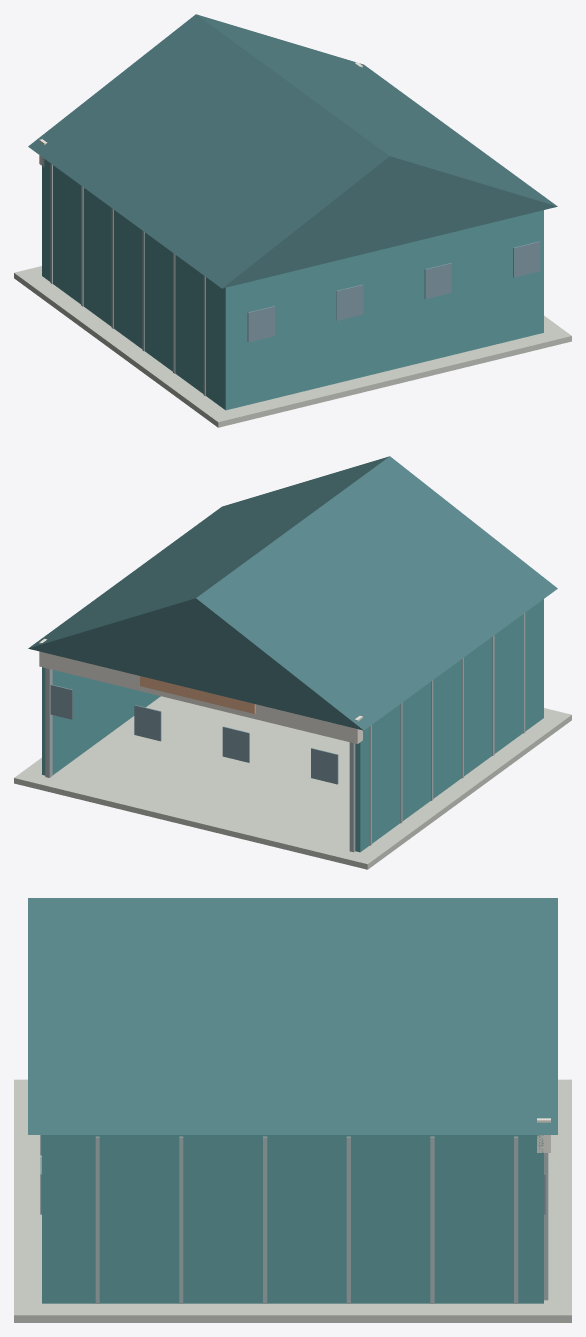
Rendered from hangar_small.glb.
3 views of the same model, one above another, from view 1: azimuth 30°, elevation 25°; view 2: azimuth 150°, elevation 25°; view 3: azimuth 270°, elevation 25° (orthographic). The views are drawn at different scales.
Parts seen in each view (by area): view 1: hangar_small__pitched_roof, hangar_small__back_wall, hangar_small__side_wall, hangar_small__foundation, hangar_small__window.004, hangar_small__window.006, hangar_small__window.002, hangar_small__window; view 2: hangar_small__pitched_roof, hangar_small__foundation, hangar_small__side_wall, hangar_small__side_wall.001, hangar_small__door_header, hangar_small__hangar_sign, hangar_small__window.005, hangar_small__window.001, hangar_small__window.003, hangar_small__door_track.001, hangar_small__door_track, hangar_small__window.007; view 3: hangar_small__pitched_roof, hangar_small__side_wall.001, hangar_small__foundation, hangar_small__back_wall, hangar_small__corrugation.009, hangar_small__corrugation.001, hangar_small__corrugation.003, hangar_small__corrugation.005, hangar_small__corrugation.007, hangar_small__corrugation.011, hangar_small__door_track.001.
Part boxes in pixels (bbox=[...]): hangar_small__pitched_roof: bbox=[28, 14, 557, 288]; hangar_small__back_wall: bbox=[221, 210, 543, 410]; hangar_small__side_wall: bbox=[42, 158, 232, 407]; hangar_small__foundation: bbox=[14, 266, 571, 427]; hangar_small__window.004: bbox=[424, 263, 451, 299]; hangar_small__window.006: bbox=[513, 241, 540, 277]; hangar_small__window.002: bbox=[336, 284, 363, 320]; hangar_small__window: bbox=[247, 306, 274, 342]; hangar_small__pitched_roof: bbox=[28, 456, 557, 730]; hangar_small__foundation: bbox=[14, 696, 571, 869]; hangar_small__side_wall: bbox=[355, 599, 543, 852]; hangar_small__side_wall.001: bbox=[42, 667, 160, 775]; hangar_small__door_header: bbox=[39, 638, 362, 743]; hangar_small__hangar_sign: bbox=[140, 676, 255, 713]; hangar_small__window.005: bbox=[134, 705, 161, 741]; hangar_small__window.001: bbox=[311, 748, 338, 784]; hangar_small__window.003: bbox=[222, 726, 249, 762]; hangar_small__door_track.001: bbox=[45, 668, 52, 777]; hangar_small__door_track: bbox=[349, 742, 355, 852]; hangar_small__window.007: bbox=[50, 684, 72, 719]; hangar_small__pitched_roof: bbox=[28, 898, 557, 1134]; hangar_small__side_wall.001: bbox=[42, 1135, 543, 1303]; hangar_small__foundation: bbox=[14, 1079, 571, 1322]; hangar_small__back_wall: bbox=[42, 1135, 52, 1303]; hangar_small__corrugation.009: bbox=[430, 1136, 434, 1303]; hangar_small__corrugation.001: bbox=[95, 1136, 99, 1303]; hangar_small__corrugation.003: bbox=[179, 1136, 183, 1303]; hangar_small__corrugation.005: bbox=[263, 1136, 267, 1303]; hangar_small__corrugation.007: bbox=[346, 1136, 350, 1303]; hangar_small__corrugation.011: bbox=[514, 1136, 518, 1303]; hangar_small__door_track.001: bbox=[544, 1153, 548, 1300].
Bounding box in the file's own units: 20 × 12.14 × 20.
